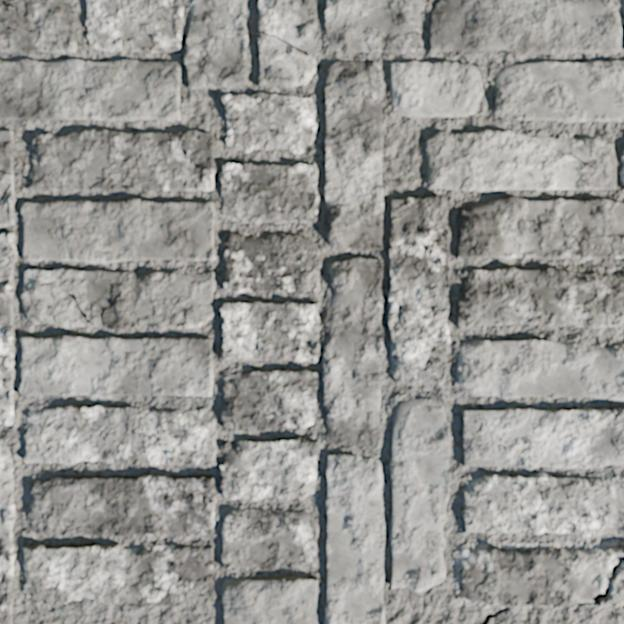brick: (21, 199, 214, 262), (26, 474, 215, 537), (24, 404, 216, 466), (23, 544, 214, 606), (19, 336, 212, 397), (388, 195, 449, 387), (22, 269, 214, 330), (28, 130, 215, 192), (425, 130, 615, 190), (390, 398, 449, 590), (323, 258, 383, 445), (0, 59, 180, 120), (325, 61, 382, 249), (457, 197, 623, 261), (428, 0, 620, 54), (462, 473, 623, 537), (457, 268, 623, 329), (325, 453, 384, 623), (457, 339, 623, 399), (463, 408, 623, 469), (494, 61, 623, 122), (220, 438, 318, 500), (220, 163, 318, 223), (220, 302, 318, 361), (222, 370, 317, 430), (224, 233, 320, 292), (222, 509, 316, 569), (222, 93, 316, 152), (185, 0, 247, 88), (324, 0, 422, 53), (391, 61, 482, 117), (258, 0, 316, 87), (86, 0, 183, 52), (222, 576, 317, 623), (0, 0, 76, 53), (0, 233, 16, 424), (0, 440, 14, 623), (0, 131, 12, 194), (0, 191, 14, 227), (620, 142, 623, 162), (621, 167, 623, 185)
broken_brick: (459, 544, 623, 608)
crack: (257, 3, 309, 56), (0, 0, 57, 43), (156, 477, 182, 516), (180, 131, 202, 176), (99, 290, 121, 326), (154, 132, 175, 168), (576, 586, 608, 606), (571, 233, 623, 244), (195, 476, 208, 519), (480, 606, 510, 623), (0, 182, 12, 220), (608, 555, 623, 580), (33, 361, 44, 394), (201, 53, 209, 86), (603, 407, 623, 420), (465, 511, 488, 521), (392, 31, 420, 37), (18, 391, 24, 397), (540, 601, 548, 605), (521, 601, 529, 604)
